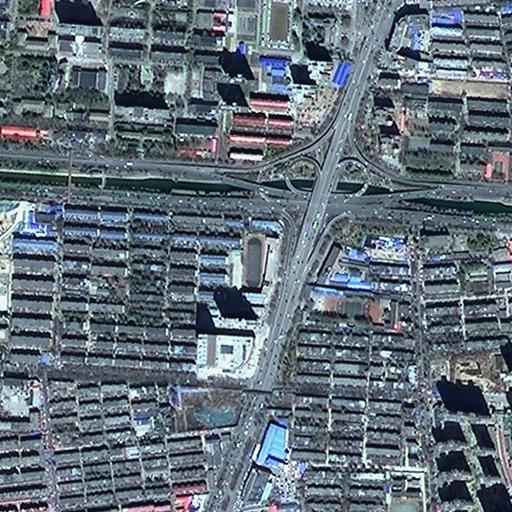school: (300, 287, 390, 324), (238, 227, 280, 295)
